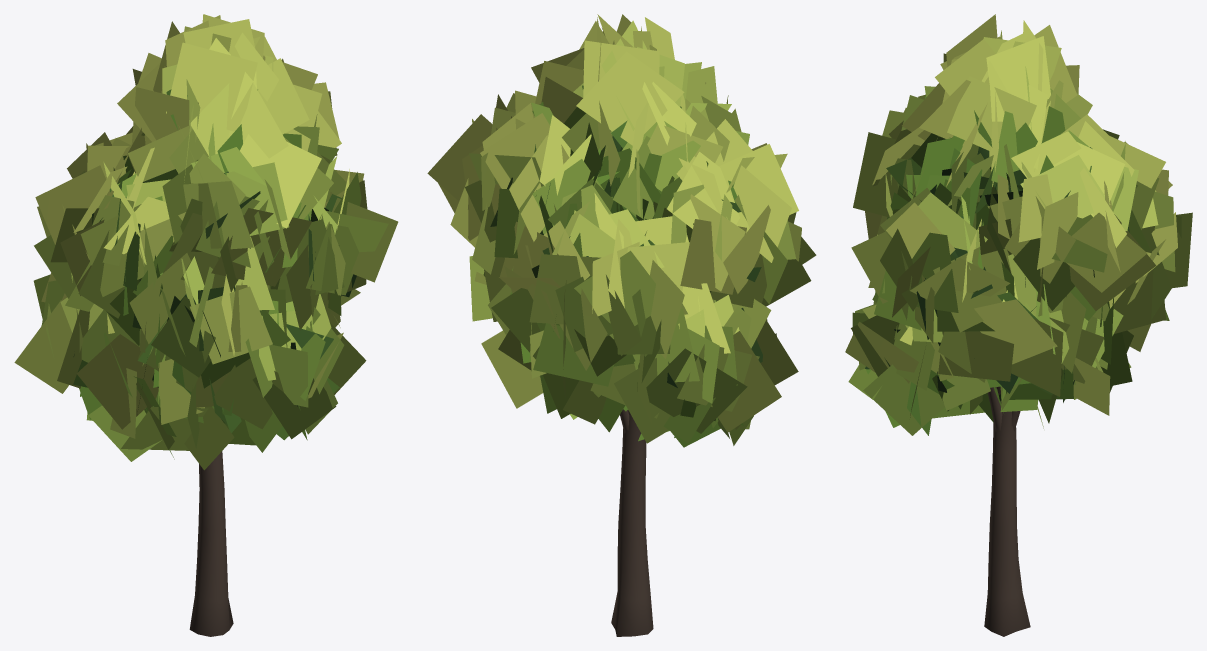
File: Ginkgo.fbx
3 views of the same model, side by side, from view 1: azimuth 30°, elevation 25°; view 2: azimuth 150°, elevation 25°; view 3: azimuth 270°, elevation 25° (orthographic).
Parts seen in each view (by area): view 1: Ginkgo; view 2: Ginkgo; view 3: Ginkgo.
Boxes of the visible parts, <box> form: Ginkgo: <box>14,14,398,636</box>; Ginkgo: <box>427,14,816,636</box>; Ginkgo: <box>845,14,1192,636</box>.
Bounding box in the file's own units: 6.27 × 11.35 × 5.96.
